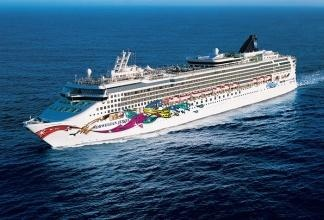youlun: (17, 32, 298, 154)
